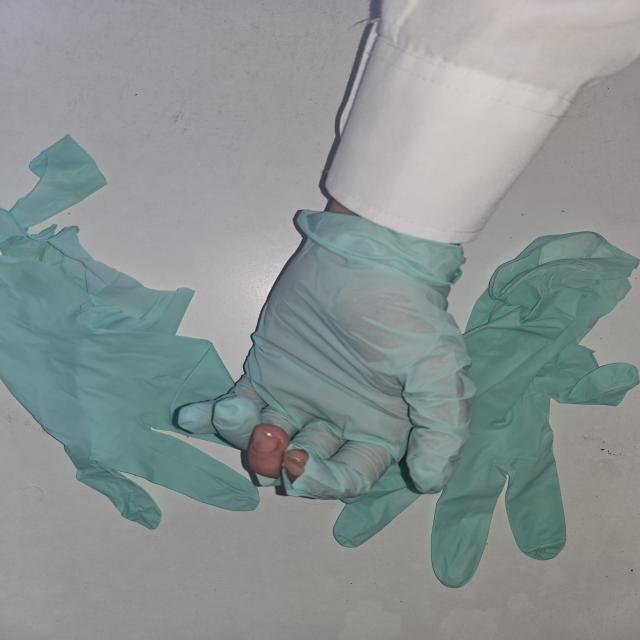gloves_damaged: (169, 206, 474, 499)
